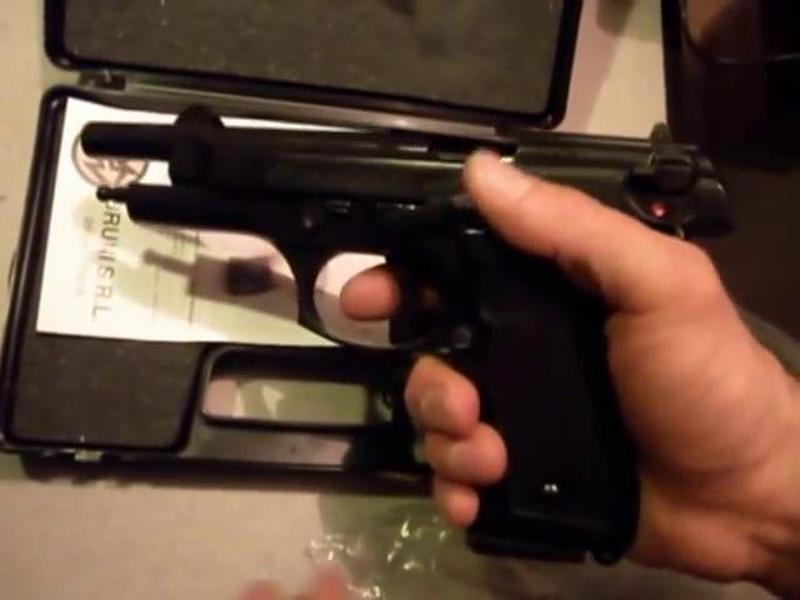Pistola: (63, 95, 723, 563)
